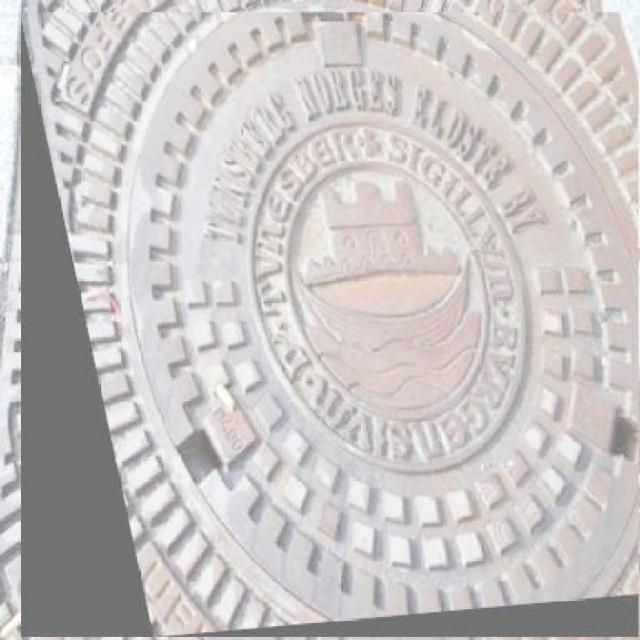Manhole: (19, 12, 638, 637)
